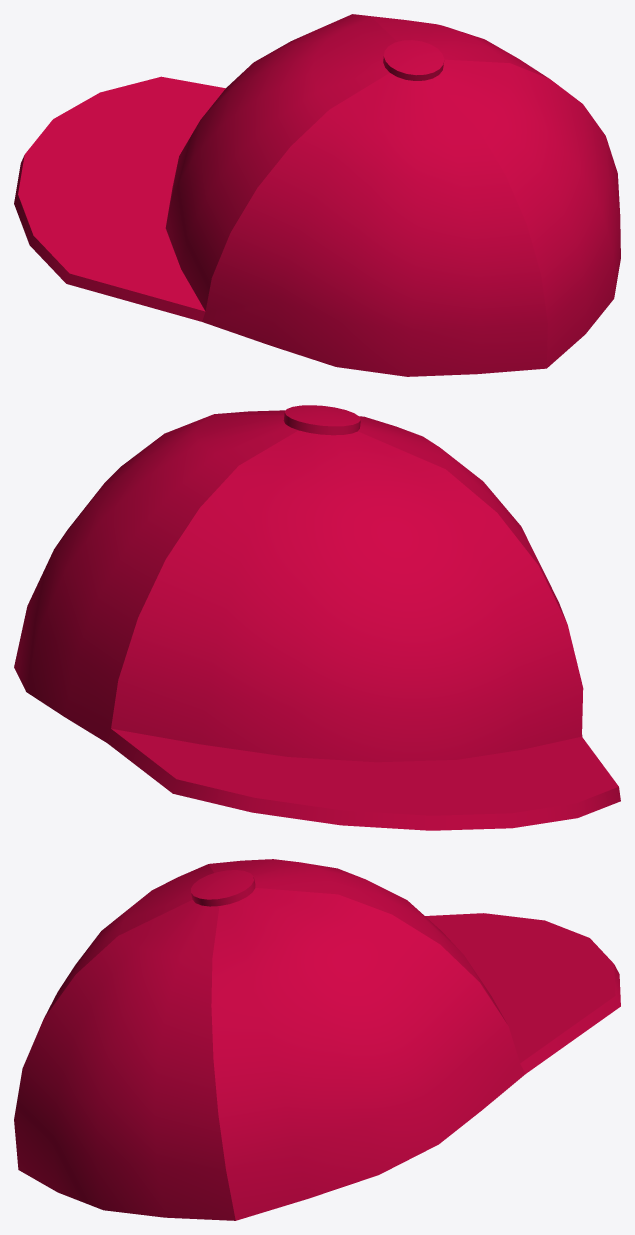
Rendered from baseballcap_basic.obj.
3 views of the same model, one above another, from view 1: azimuth 30°, elevation 25°; view 2: azimuth 150°, elevation 25°; view 3: azimuth 270°, elevation 25° (orthographic). The views are drawn at different scales.
Parts seen in each view (by area): view 1: 0; view 2: 0; view 3: 0.
Part boxes in pixels (x1=…): 0: x1=14, y1=14, x2=620, y2=376; 0: x1=14, y1=405, x2=620, y2=830; 0: x1=14, y1=859, x2=620, y2=1220.
Bounding box in the file's own units: 0.5039 × 0.2436 × 0.4932.
